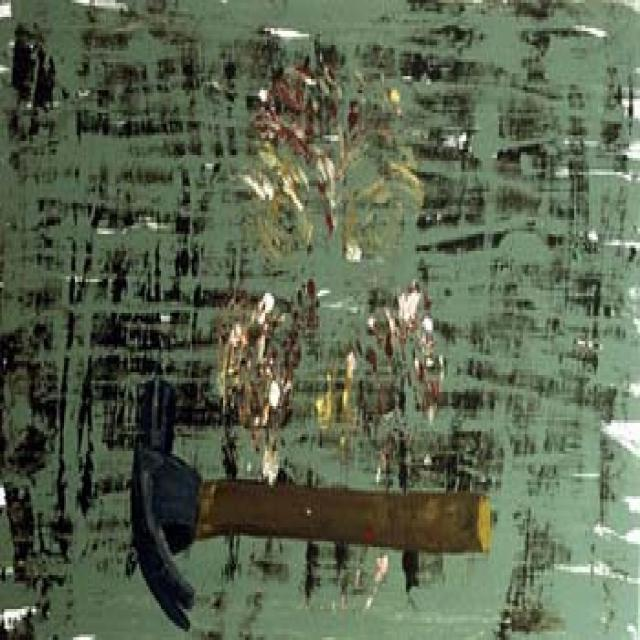hammer: (120, 363, 506, 628)
